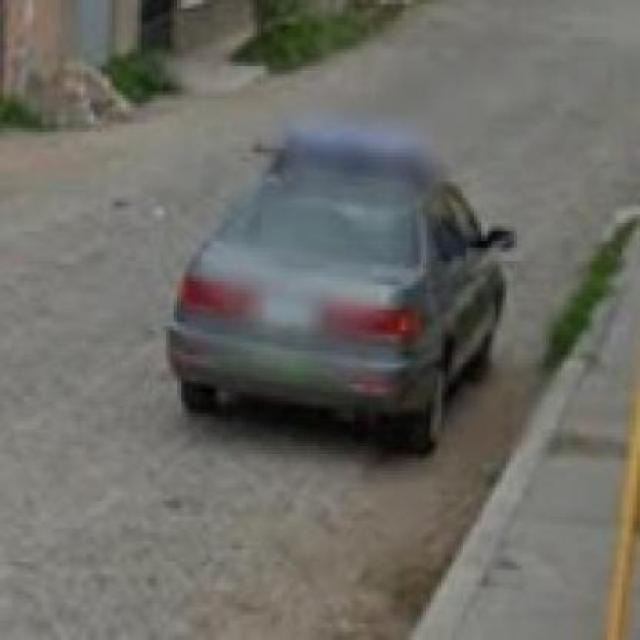car: (171, 144, 514, 447)
